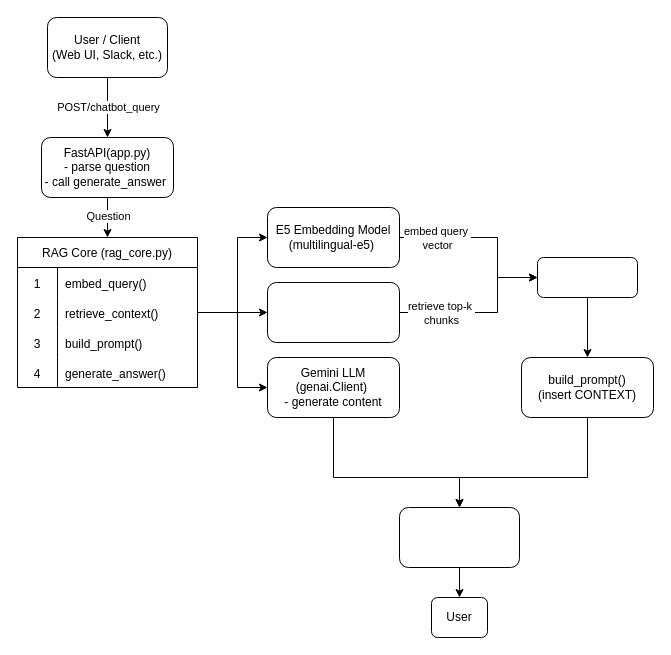
The diagram is 671 pixels wide and 655 high, and some of its shapes have lost their labels. Here are the shapes that lost their labels. From the top down, the box of each, then its label:
(536, 256, 638, 298): context chunks
(266, 282, 400, 342): Vector Store ChromaDB - handbook_chunks
(398, 506, 520, 568): FastAPI Response return {"answer": ...}
